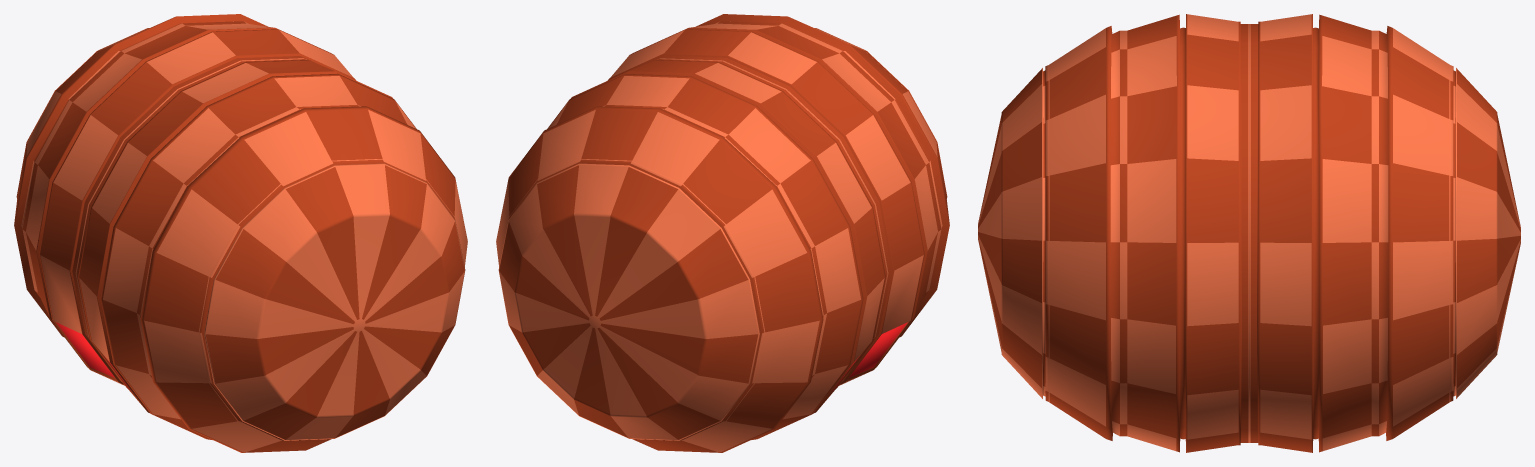
The model's file is TNT 1.fbx.
3 renders of one model, left to right at view 1: azimuth 30°, elevation 25°; view 2: azimuth 150°, elevation 25°; view 3: azimuth 270°, elevation 25°, orthographic. The views are drawn at different scales.
Parts seen in each view (by area): view 1: TNT 1; view 2: TNT 1; view 3: TNT 1.
Boxes of the visible parts, x1,y1,x2,y2 form: TNT 1: (14, 14, 467, 452); TNT 1: (496, 14, 949, 452); TNT 1: (978, 14, 1520, 452).
Size of the model in its own units: 90.17 by 90.17 by 111.
